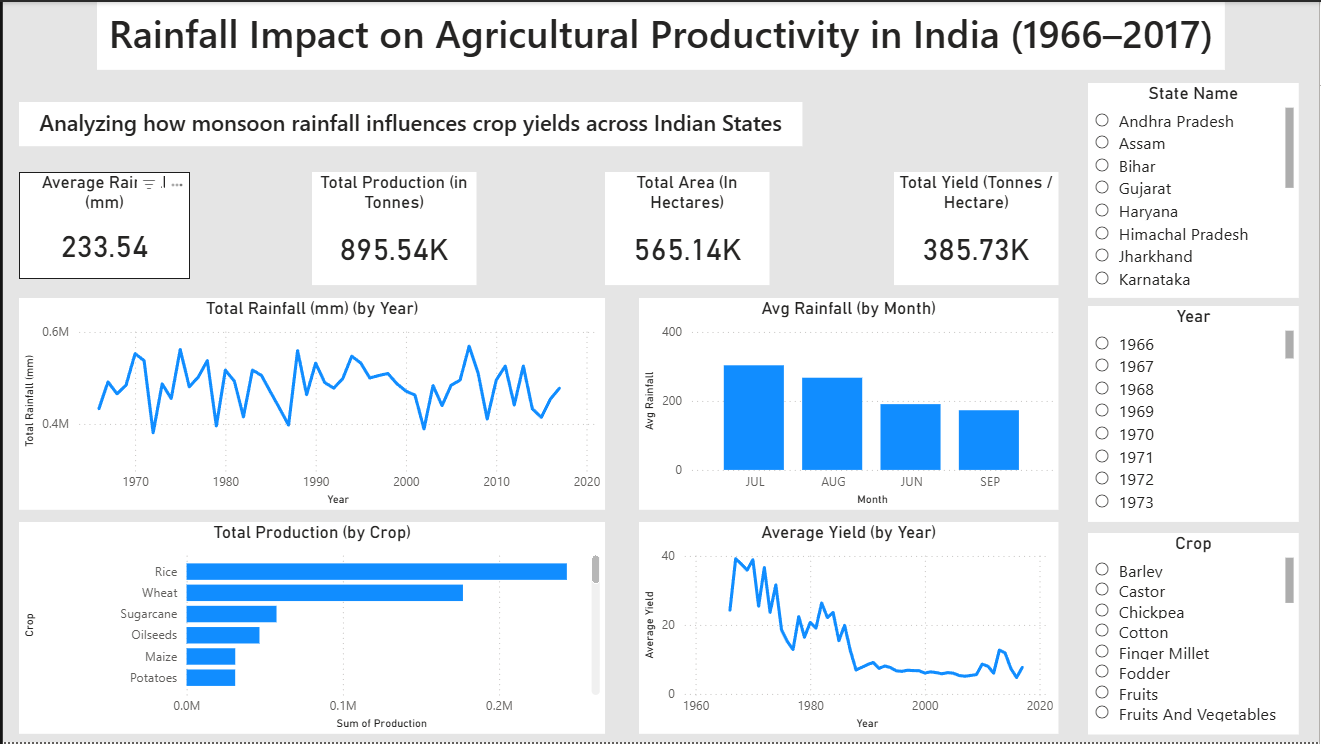

The dashboard page shown, as its layout file describes it:
{"tool":"powerbi","page":{"name":"KPIs and Trends","canvas":[1280,720],"ordinal":0},"visuals":[{"type":"textbox","box":[91.4,0,1097.1,66.1],"z":0},{"type":"textbox","box":[15.6,97.3,761.6,42.8],"z":1000},{"type":"listSlicer","fields":{"Values":["Dimension_Geography.State Name"]},"box":[1055.3,78.8,205.2,209.1],"z":2000},{"type":"listSlicer","fields":{"Values":["Fact_Agriculture.Year"]},"box":[1055.3,295.7,205.2,210.1],"z":3000},{"type":"card","title":"Average Rainfall (mm)","fields":{"Values":["Fact_Rainfall.Avg Rainfall"]},"box":[15.6,165.3,166.3,104.1],"z":4000},{"type":"card","title":"Total Production (in Tonnes)","fields":{"Values":["Sum(Fact_Agriculture.Production)"]},"box":[300.5,165.3,159.5,109.9],"z":5000},{"type":"card","title":"Total Yield (Tonnes / Hectare)","fields":{"Values":["Sum(Fact_Agriculture.Correct Yield)"]},"box":[866.6,165.3,159.5,109.9],"z":6000},{"type":"card","title":"Total Area (In Hectares)","fields":{"Values":["Sum(Fact_Agriculture.Area)"]},"box":[585.5,165.3,159.5,109.9],"z":7000},{"type":"lineChart","title":"Total Rainfall (mm) (by Year)","fields":{"Category":["Fact_Agriculture.Year"],"Y":["Fact_Agriculture.Total Rainfall (mm)"]},"box":[15.6,287.9,570,206.2],"z":8000},{"type":"clusteredColumnChart","title":"Avg Rainfall (by Month)","fields":{"Category":["Fact_Rainfall.Month"],"Y":["Fact_Rainfall.Avg Rainfall"]},"box":[618.6,287.9,407.5,206.2],"z":9000},{"type":"listSlicer","fields":{"Values":["Fact_Agriculture.Crop"]},"box":[1055.3,516.5,205.2,195.5],"z":10000},{"type":"clusteredBarChart","title":"Total Production (by Crop)","fields":{"Category":["Fact_Agriculture.Crop"],"Y":["Sum(Fact_Agriculture.Production)"]},"box":[15.6,505.8,570,206.2],"z":11000},{"type":"lineChart","title":"Average Yield (by Year)","fields":{"Category":["Fact_Agriculture.Year"],"Y":["Fact_Agriculture.Average Yield"]},"box":[618.6,505.8,407.5,206.2],"z":12000}]}

Visuals, with their boxes in screenshot pixels (x1, y1, x2, y2), scaled from the page's 1280x720 canvas onto the 1321x744 screenshot:
textbox: BBox(94, 0, 1227, 68)
textbox: BBox(16, 101, 802, 145)
listSlicer - Dimension_Geography.State Name: BBox(1089, 81, 1301, 297)
listSlicer - Fact_Agriculture.Year: BBox(1089, 306, 1301, 523)
"Average Rainfall (mm)" card: BBox(16, 171, 188, 278)
"Total Production (in Tonnes)" card: BBox(310, 171, 475, 284)
"Total Yield (Tonnes / Hectare)" card: BBox(894, 171, 1059, 284)
"Total Area (In Hectares)" card: BBox(604, 171, 769, 284)
"Total Rainfall (mm) (by Year)" lineChart: BBox(16, 297, 604, 511)
"Avg Rainfall (by Month)" clusteredColumnChart: BBox(638, 297, 1059, 511)
listSlicer - Fact_Agriculture.Crop: BBox(1089, 534, 1301, 736)
"Total Production (by Crop)" clusteredBarChart: BBox(16, 523, 604, 736)
"Average Yield (by Year)" lineChart: BBox(638, 523, 1059, 736)
